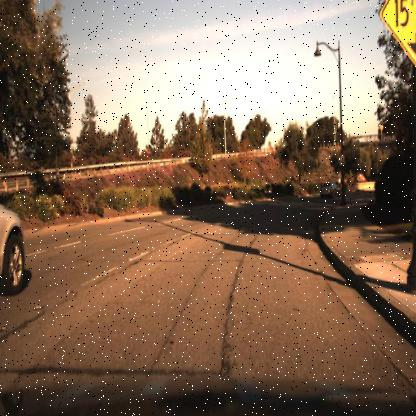car: (0, 186, 29, 297), (320, 178, 342, 201)
